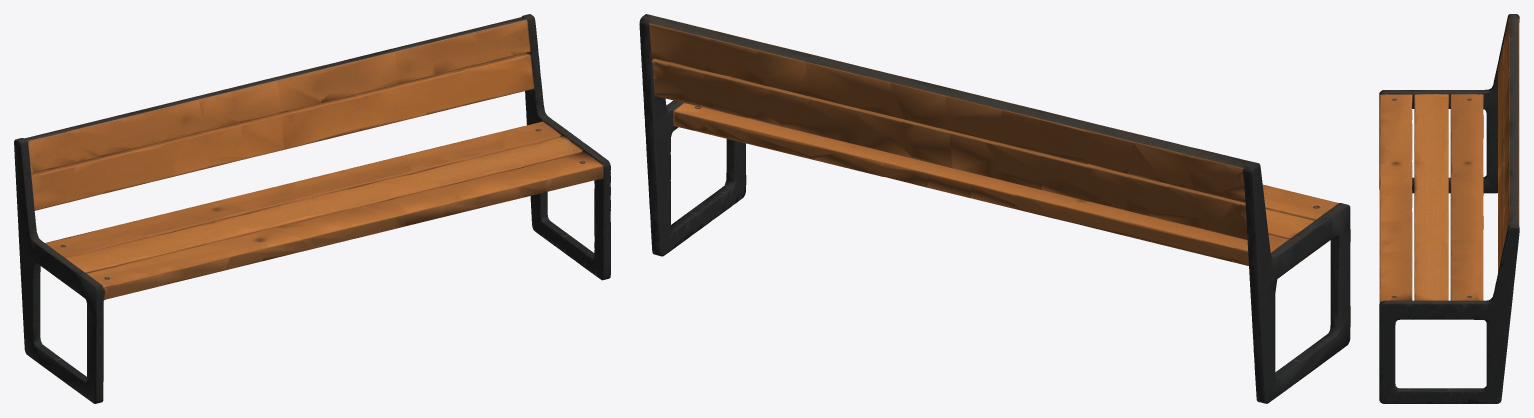
Rendered from benchw_lod1.glb.
3 renders of one model, left to right at view 1: azimuth 30°, elevation 25°; view 2: azimuth 150°, elevation 25°; view 3: azimuth 270°, elevation 25°, orthographic. The views are drawn at different scales.
Visible parts, largest first — view 1: mesh_node; view 2: mesh_node; view 3: mesh_node.
Boxes of the visible parts, box(x1,y1,x2,y2) form: mesh_node: box(14, 14, 610, 403); mesh_node: box(639, 14, 1350, 403); mesh_node: box(1379, 14, 1519, 403).
Size of the model in its own units: 1.9 by 0.7333 by 0.5285.
Materials: 1 (1 with a texture image).
